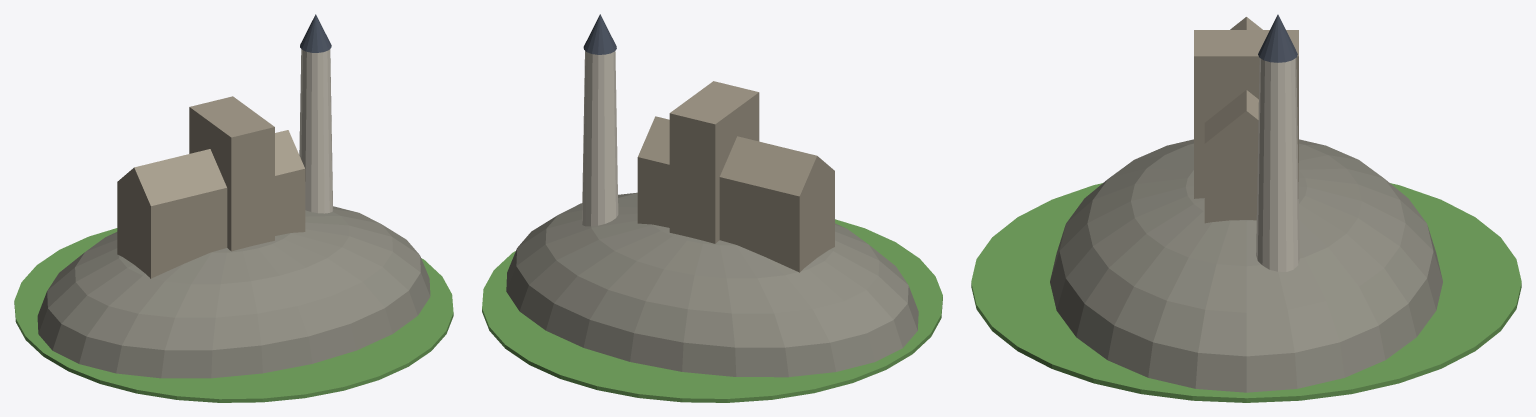
Rendered from cashel.glb.
3 views of the same model, side by side, from view 1: azimuth 30°, elevation 25°; view 2: azimuth 150°, elevation 25°; view 3: azimuth 270°, elevation 25° (orthographic). The views are drawn at different scales.
Size of the model in its own units: 2.1 by 1.39 by 2.1.
